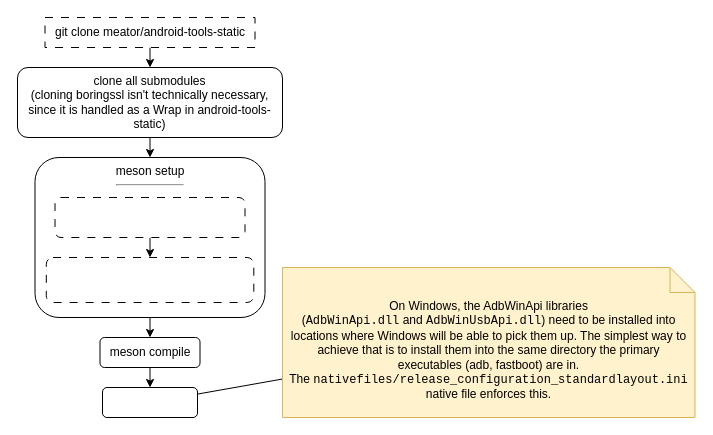
This 713x435 diagram has some shape labels left out. The centre of each missing label's shape, as x and y in pixels:
"apply all patches in patches/ subdirectory to submodules" goes at [149,217].
"fetch all wraps including boringssl (which is handled as a CMake Wrap)" goes at [149,279].
"meson install" goes at [150,402].
